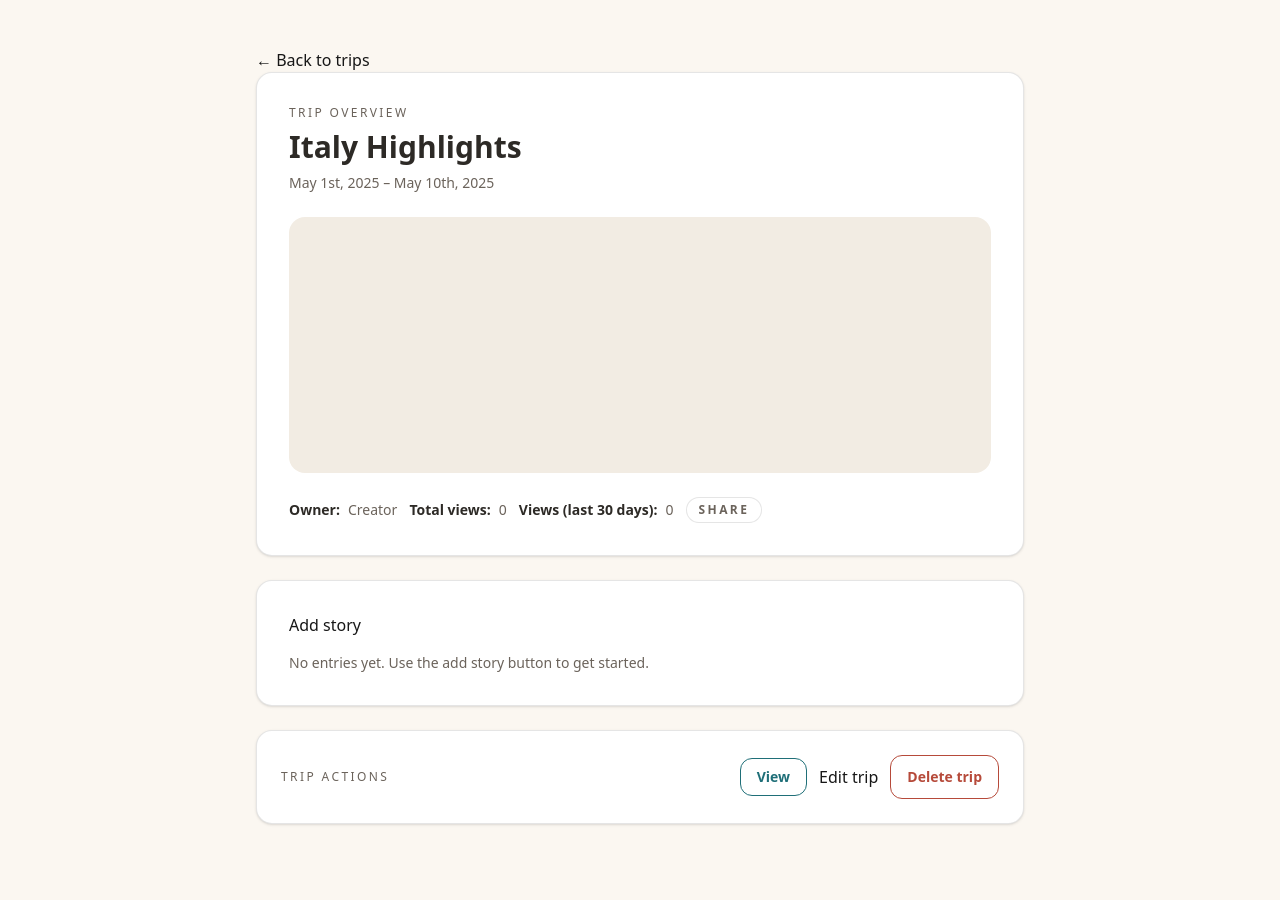
TripDetail share panel › removes invited users with confirmation
Step 1. Click the button with aria-label "share trip" → (724, 510), box top-left (686, 497), bottom-right (762, 523)
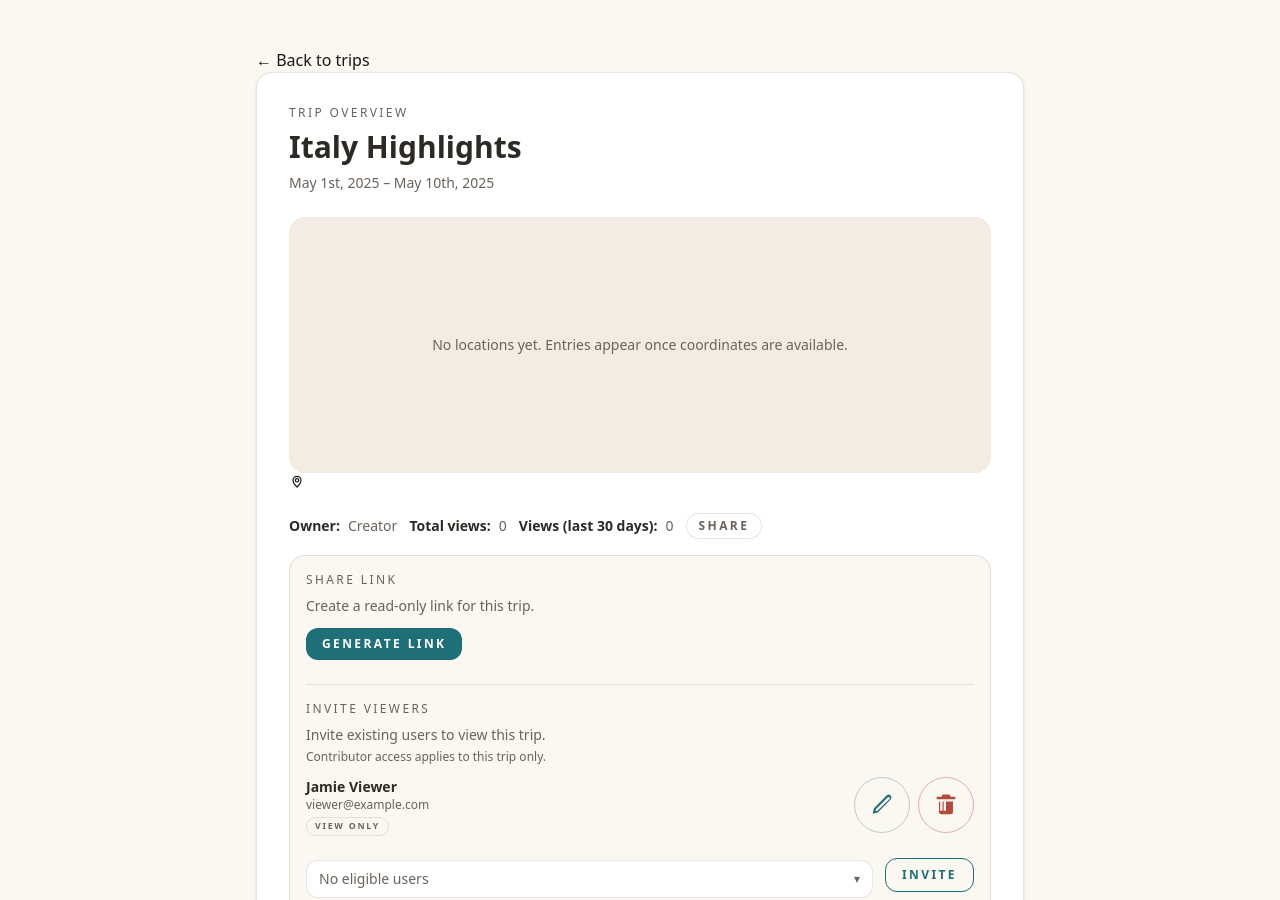
Expected: the text "Jamie Viewer" is shown, top-left (306, 777), bottom-right (397, 796)
Step 2. Click the button named "remove" → (946, 805), box top-left (918, 777), bottom-right (974, 833)
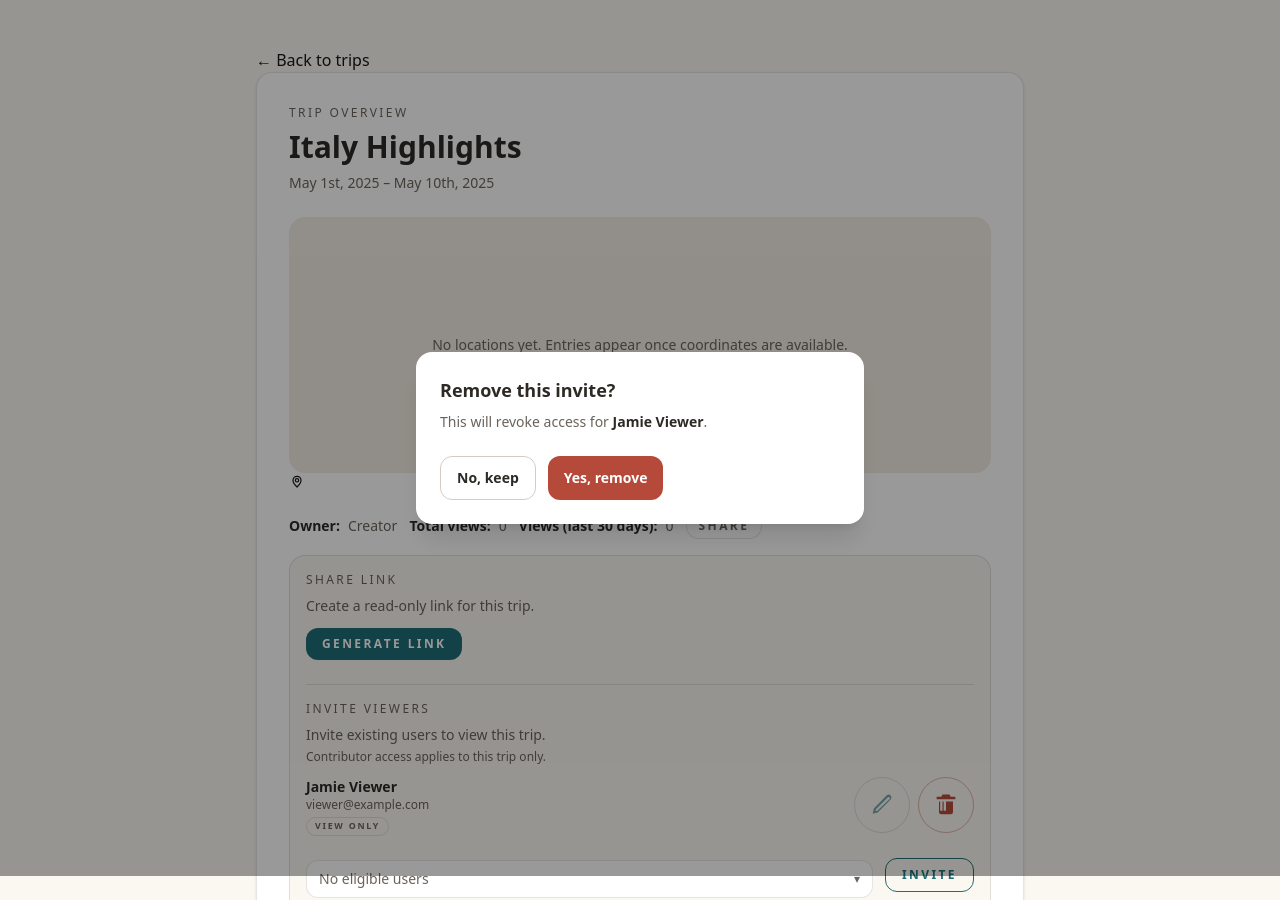
Step 3. Click the button "Yes, remove" → (606, 478), box top-left (548, 456), bottom-right (663, 500)
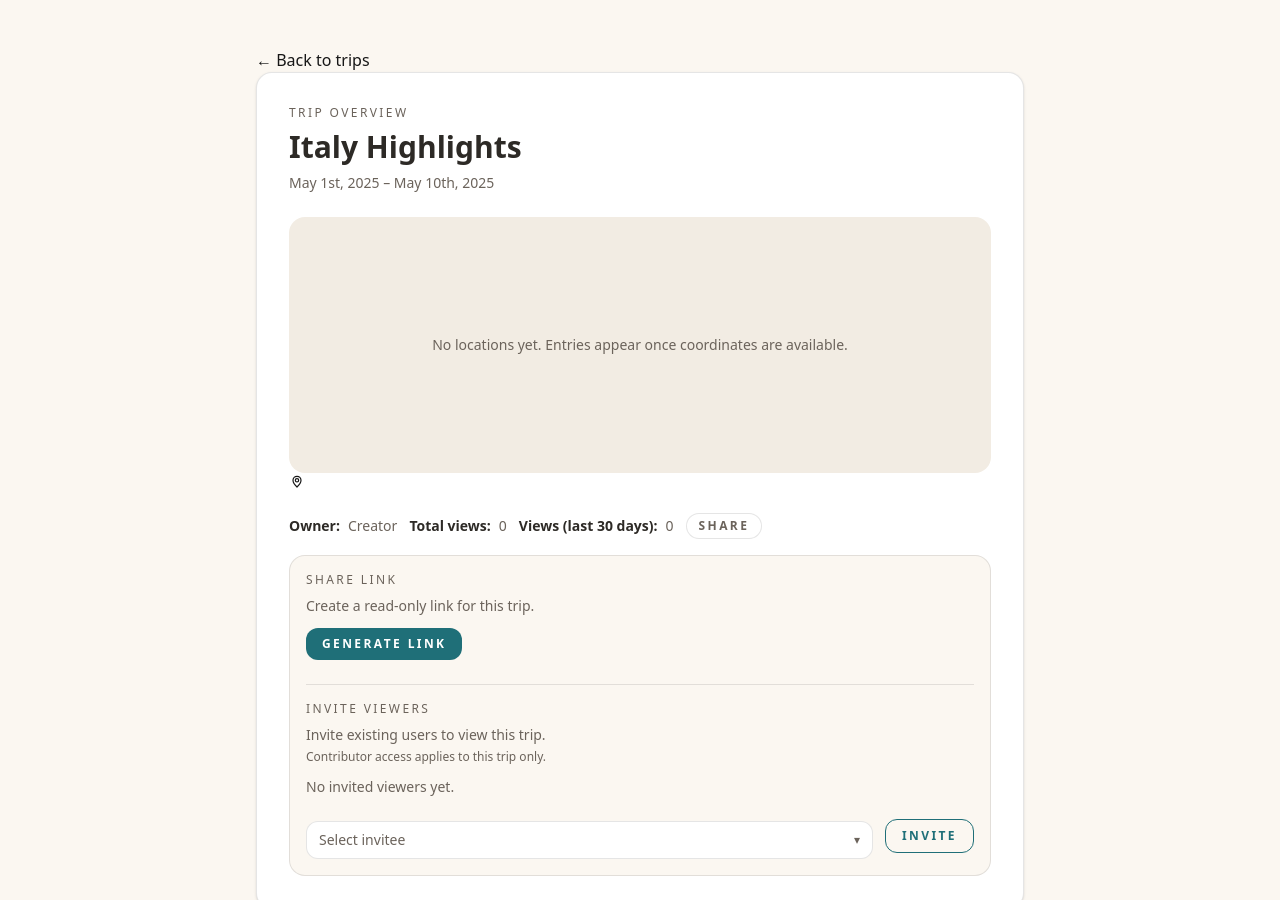
Expected: the text "Jamie Viewer" is gone
